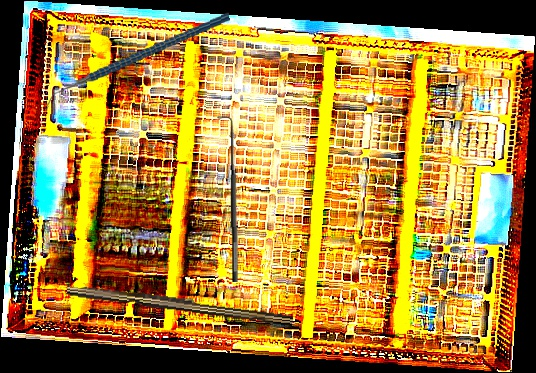Chopper: (37, 11, 237, 113)
Hook Surgical: (216, 114, 241, 283)
Scalpel Handle: (65, 281, 295, 327)
